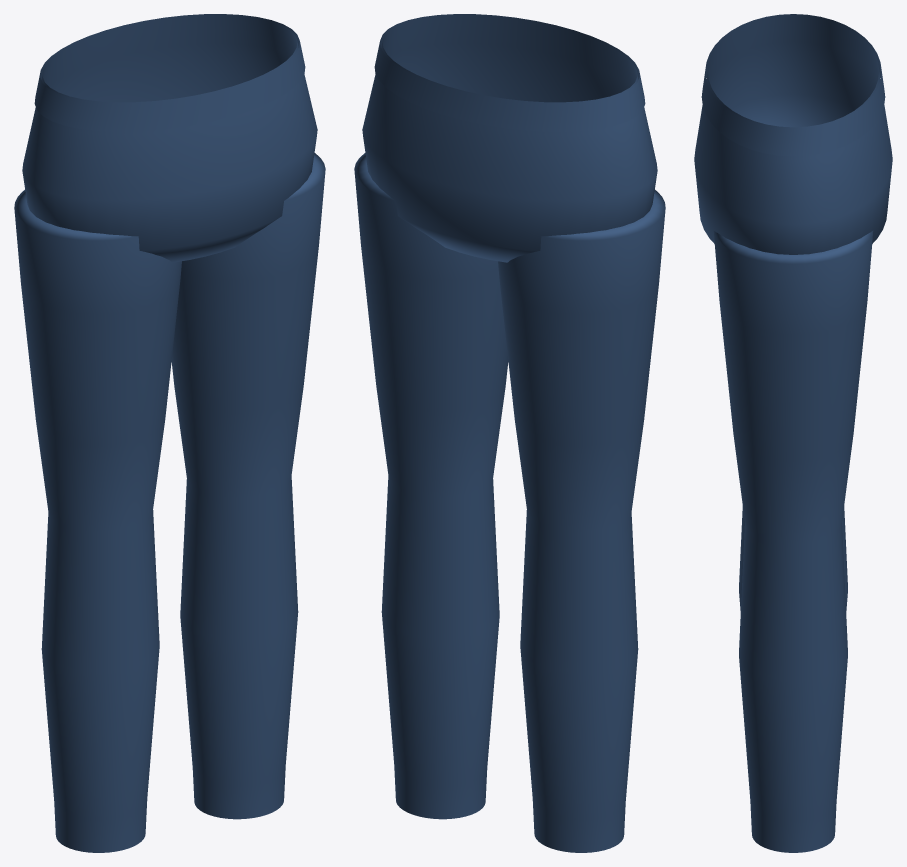
The model's file is blue_jeans.glb.
The picture shows the model from 3 angles, left to right: view 1: azimuth 30°, elevation 25°; view 2: azimuth 150°, elevation 25°; view 3: azimuth 270°, elevation 25°; orthographic projection. The views are drawn at different scales.
Parts seen in each view (by area): view 1: Jeans, Waistband; view 2: Jeans, Waistband; view 3: Jeans, Waistband.
Boxes of the visible parts, x1,y1,x2,y2 form: Jeans: [14, 15, 325, 852]; Waistband: [34, 14, 305, 131]; Jeans: [354, 15, 665, 852]; Waistband: [374, 14, 645, 131]; Jeans: [694, 15, 892, 852]; Waistband: [701, 14, 885, 156].
Size of the model in its own units: 0.398 by 0.995 by 0.245.
